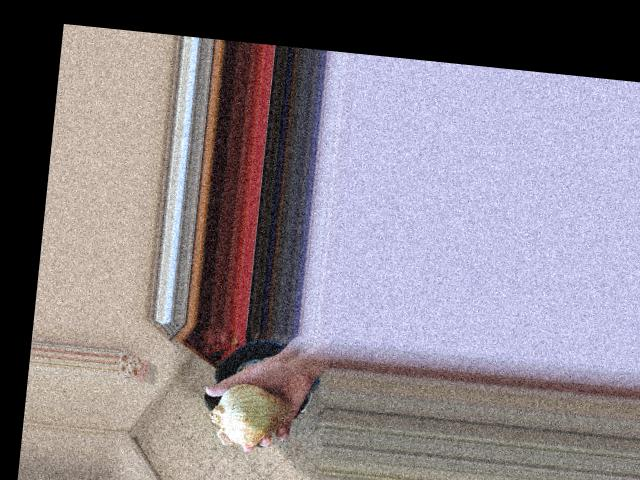onion: (211, 378, 293, 446)
